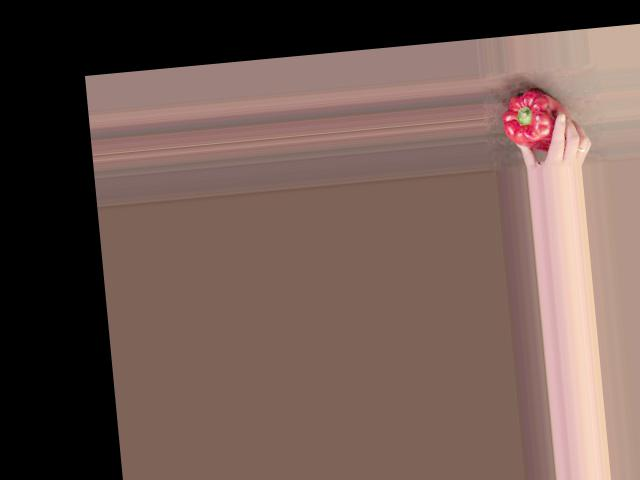bell_pepper: (498, 87, 566, 151)
